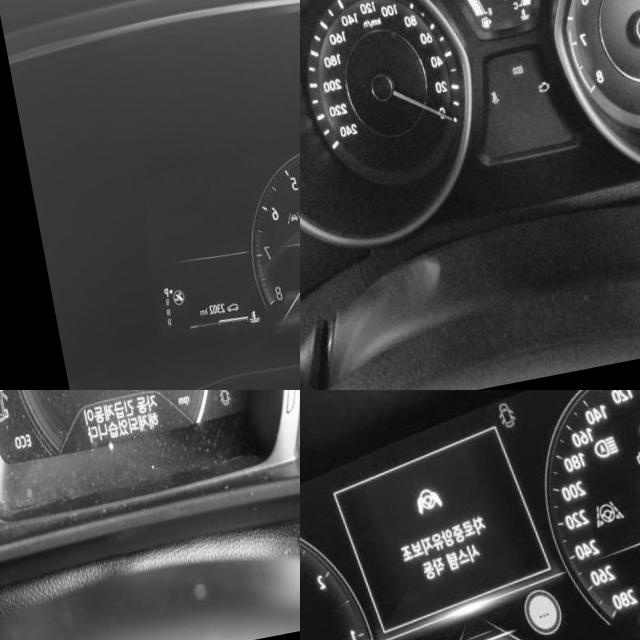Doors: (489, 415, 513, 447), (203, 399, 217, 423)
Low beam: (628, 435, 640, 467)
